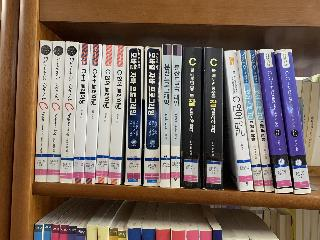book-spine: (274, 48, 311, 195), (257, 48, 293, 195), (223, 50, 254, 191), (237, 49, 264, 192), (248, 49, 274, 192), (202, 47, 223, 190), (181, 47, 202, 189), (82, 44, 103, 184), (95, 44, 115, 184), (34, 40, 53, 182), (143, 47, 162, 187), (107, 45, 126, 184), (125, 46, 144, 185), (47, 41, 65, 183), (61, 41, 78, 183), (73, 43, 90, 183), (159, 44, 173, 187), (170, 45, 182, 188)
